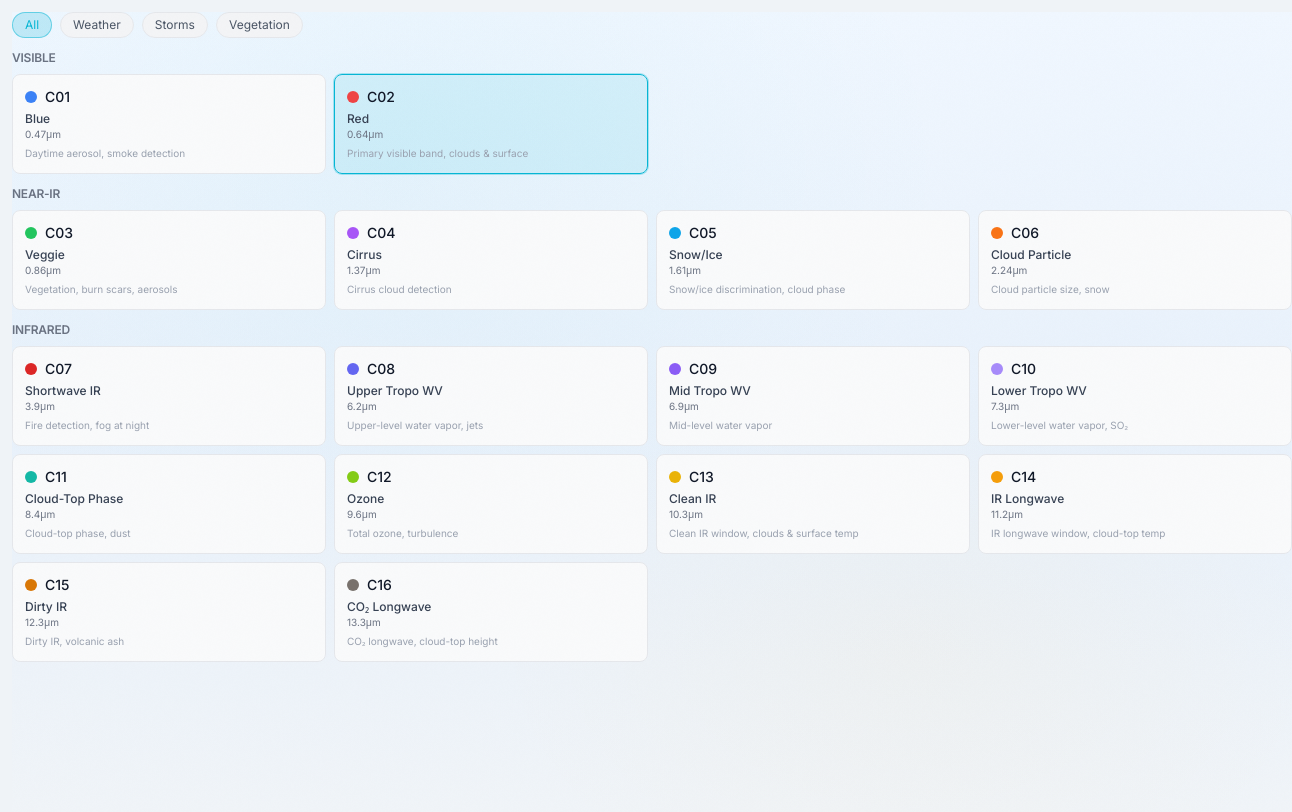
BandPicker - Extended › filters to Storms preset
The image size is (1292, 812).
Click the button "Storms" at [175, 25], box [142,12,208,38]
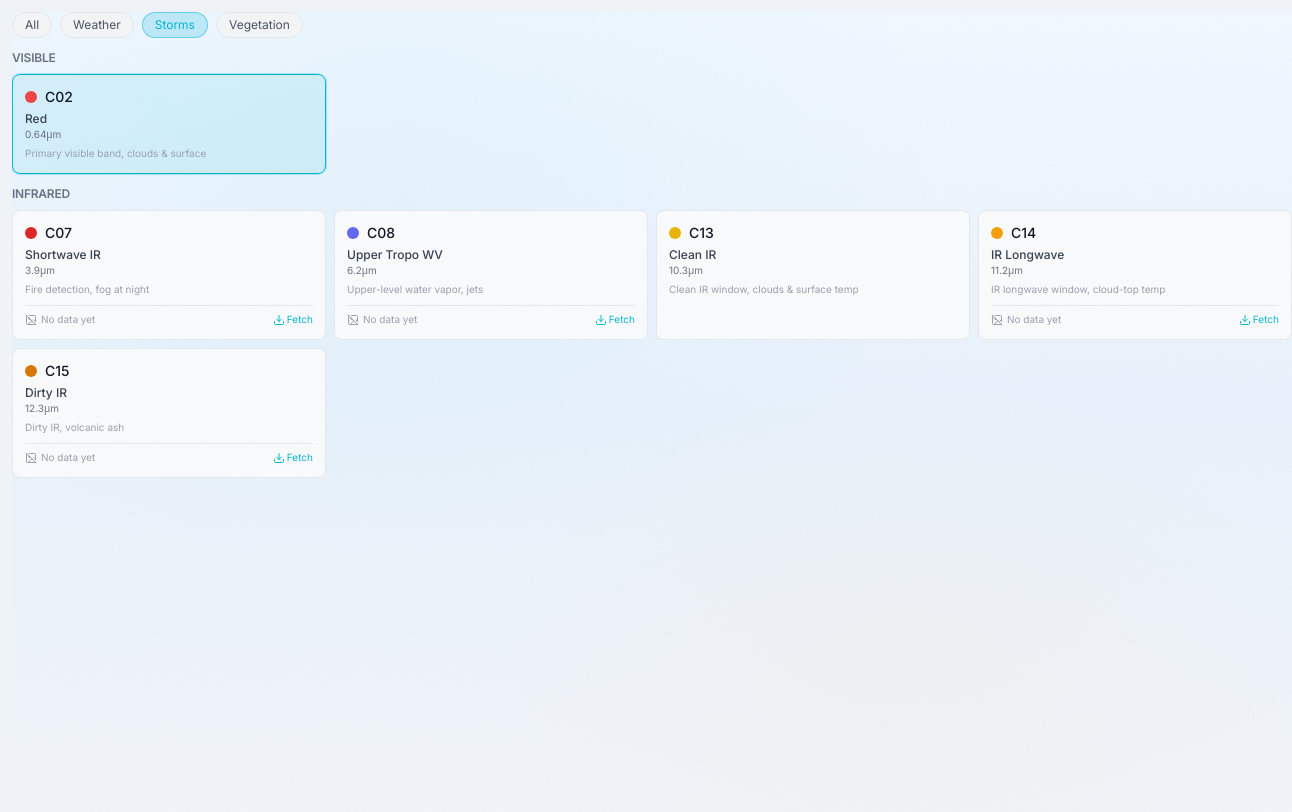
Expected: the text "C07" is shown, [45,223,72,243]
Result: the button "C03" is gone
